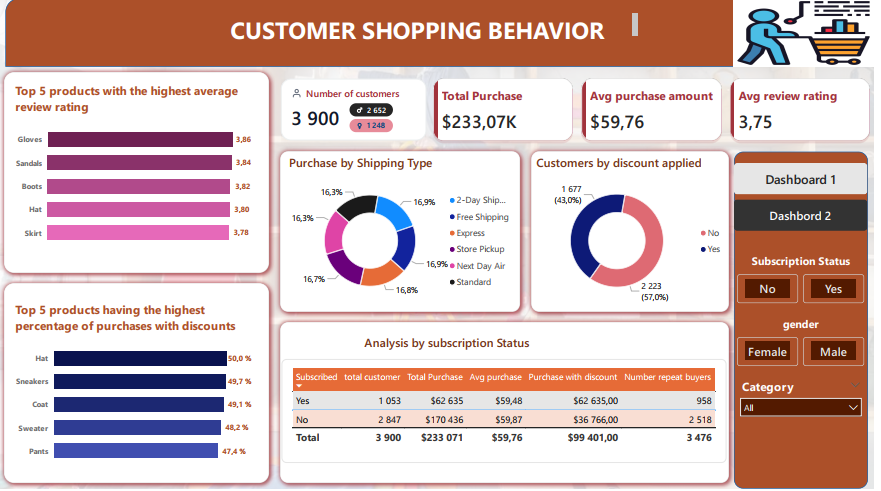

The page's visual inventory and layout, read from the dashboard file:
{"tool":"powerbi","page":{"name":"Dashbord 2","canvas":[1390,780],"ordinal":1},"visuals":[{"type":"shape","box":[9.5,0,1380.9,109.4],"z":0},{"type":"shape","box":[1168.4,244.1,212.4,535.9],"z":1000},{"type":"shape","box":[0,109.4,437.6,336],"z":2000},{"type":"shape","box":[437.6,234.6,399.5,272.7],"z":3000},{"type":"shape","box":[437.6,507.3,730.9,272.7],"z":4000},{"type":"shape","box":[0,443.9,437.6,336.1],"z":5000},{"type":"shape","box":[837.1,234.6,331.3,272.7],"z":6000},{"type":"clusteredBarChart","title":"Top 5 products with the highest average review rating","fields":{"Category":["customer_shop.item_purchased"],"Y":["customer_shop.Avg review rating"]},"box":[9.5,120.5,407.4,296.5],"z":7000},{"type":"donutChart","fields":{"Category":["customer_shop.shipping_type"],"Y":["customer_shop.Avg purchase amount"]},"box":[448.7,266.3,388.4,241],"z":8000},{"type":"textbox","box":[367.8,25.4,646.8,58.7],"z":9000},{"type":"image","box":[1168.4,1.6,222,107.8],"z":10000},{"type":"advancedSlicerVisual","fields":{"Values":["customer_shop.subscription_status"]},"box":[1173.2,405.9,202.9,79.3],"z":11000},{"type":"advancedSlicerVisual","fields":{"Values":["customer_shop.gender"]},"box":[1173.2,505.7,202.9,79.3],"z":12000},{"type":"slicer","fields":{"Values":["customer_shop.category"]},"box":[1173.2,604,202.9,77.7],"z":13000},{"type":"clusteredBarChart","title":"Top 5 products having the highest percentage of purchases with discounts","fields":{"Category":["customer_shop.item_purchased"],"Y":["customer_shop.% Purchases with Discount"]},"box":[9.5,467.7,407.4,296.5],"z":14000},{"type":"donutChart","fields":{"Category":["customer_shop.discount_applied"],"Y":["customer_shop.Number of customers"]},"box":[835.5,266.3,336.1,241],"z":15000},{"type":"tableEx","fields":{"Values":["customer_shop.subscription_status","customer_shop.Number of customers","customer_shop.Total Purchase","customer_shop.Avg purchase amount","customer_shop.Purchase with discount applied","customer_shop.Number of repeat buyers"]},"box":[448.7,573.9,707.1,164.9],"z":16000},{"type":"cardVisual","fields":{"Data":["customer_shop.Title 1"]},"box":[448.7,234.6,345.6,50.7],"z":17000},{"type":"cardVisual","fields":{"Data":["customer_shop.Title 8"]},"box":[841.8,234.6,345.6,50.7],"z":18000},{"type":"cardVisual","fields":{"Data":["customer_shop.Title 3"]},"box":[569.1,518.4,345.6,55.5],"z":19000},{"type":"pageNavigator","box":[1168.4,261.6,212.4,109.4],"z":20000},{"type":"htmlContent443BE3AD55E043BF878BED274D3A6865","fields":{"content":["customer_shop.HTML KPI Customers"]},"box":[431.6,113.9,263.3,148.1],"z":21000},{"type":"cardVisual","fields":{"Data":["customer_shop.Total Purchase","customer_shop.Avg purchase amount","customer_shop.Avg review rating"]},"box":[686.1,123,703.8,113],"z":22000}]}

Visuals, with their boxes in screenshot pixels (x1, y1, x2, y2), scaled from the page's 1390x780 canvas onto the 881x491 screenshot:
shape: 6, 0, 880, 69
shape: 741, 154, 875, 490
shape: 0, 69, 277, 280
shape: 277, 148, 531, 319
shape: 277, 319, 741, 490
shape: 0, 279, 277, 490
shape: 531, 148, 741, 319
"Top 5 products with the highest average review rating" clusteredBarChart: 6, 76, 264, 262
donutChart - customer_shop.shipping_type x customer_shop.Avg purchase amount: 284, 168, 531, 319
textbox: 233, 16, 643, 53
image: 741, 1, 880, 69
advancedSlicerVisual - customer_shop.subscription_status: 744, 256, 872, 305
advancedSlicerVisual - customer_shop.gender: 744, 318, 872, 368
slicer - customer_shop.category: 744, 380, 872, 429
"Top 5 products having the highest percentage of purchases with discounts" clusteredBarChart: 6, 294, 264, 481
donutChart - customer_shop.discount_applied x customer_shop.Number of customers: 530, 168, 743, 319
tableEx - customer_shop.subscription_status x customer_shop.Number of customers: 284, 361, 733, 465
cardVisual - customer_shop.Title 1: 284, 148, 503, 180
cardVisual - customer_shop.Title 8: 534, 148, 753, 180
cardVisual - customer_shop.Title 3: 361, 326, 580, 361
pageNavigator: 741, 165, 875, 234
htmlContent443BE3AD55E043BF878BED274D3A6865 - customer_shop.HTML KPI Customers: 274, 72, 440, 165
cardVisual - customer_shop.Total Purchase x customer_shop.Avg purchase amount: 435, 77, 880, 149
